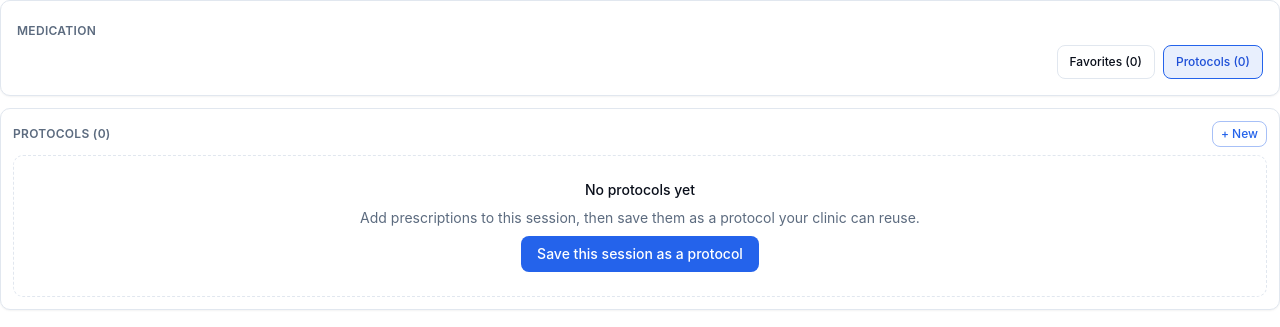
Scenario: no protocols: "Save this session as a protocol" opens the protocol form
Expected: the text "No protocols yet" is shown, [585, 180, 695, 200]
Click the button "Save this session as a protocol". click: [640, 254]
box: [521, 236, 759, 272]
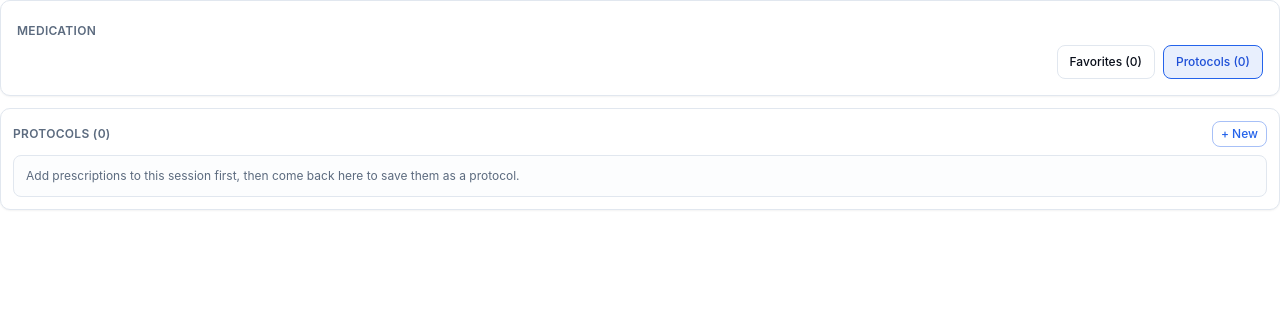
Expected: the element with test id "new-protocol-form" is shown, [13, 155, 1267, 197]
